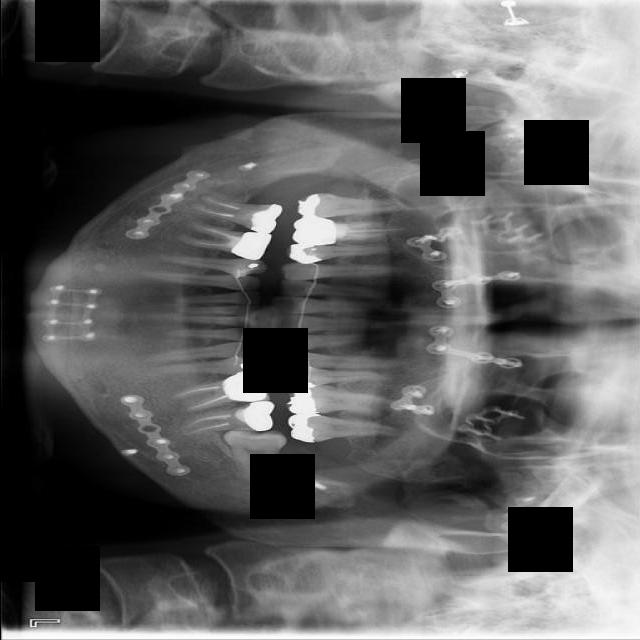52: (220, 365, 270, 411), (227, 221, 272, 267), (241, 195, 284, 239), (284, 382, 334, 415), (287, 412, 338, 443), (294, 191, 346, 221), (289, 216, 335, 246), (239, 399, 277, 434), (281, 365, 333, 390), (285, 243, 329, 265), (219, 355, 260, 376), (228, 257, 267, 278)
73: (176, 405, 246, 442), (176, 220, 243, 255), (172, 378, 231, 417), (192, 193, 256, 228), (333, 217, 408, 243), (58, 566, 74, 578)
BioHorizons Implant: (286, 413, 397, 447)
Biomet 3i Implant: (219, 427, 287, 484)
Blue Sky Bio Implant: (178, 399, 276, 437)
Caries: (293, 184, 401, 222)
Implant: (192, 194, 282, 236)
